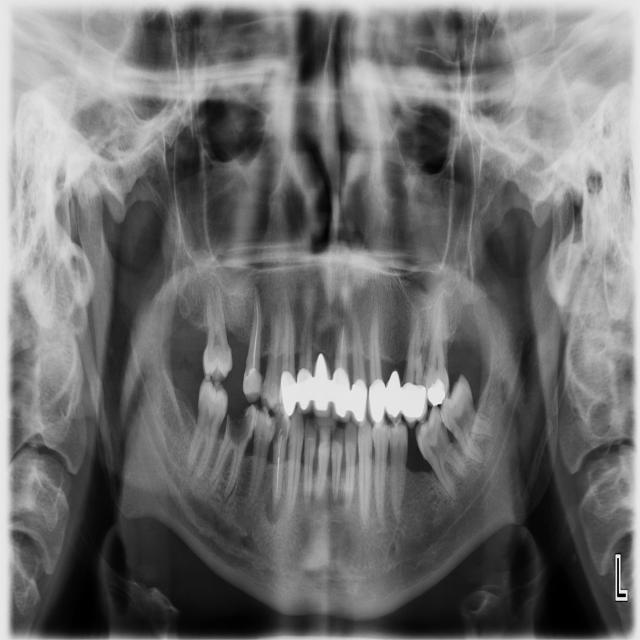mandibula: (76, 177, 571, 619)
